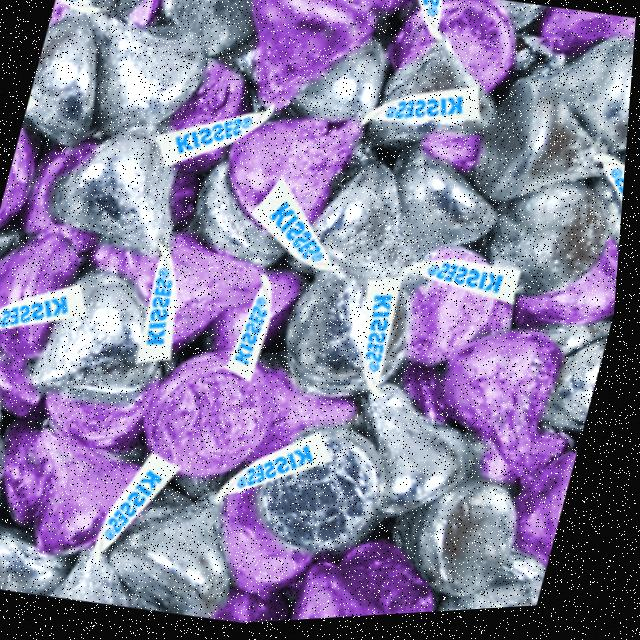kisses: (190, 47, 405, 284), (39, 73, 231, 303), (442, 36, 636, 252), (260, 235, 462, 436), (13, 367, 195, 582), (222, 406, 425, 575), (425, 314, 597, 505)
